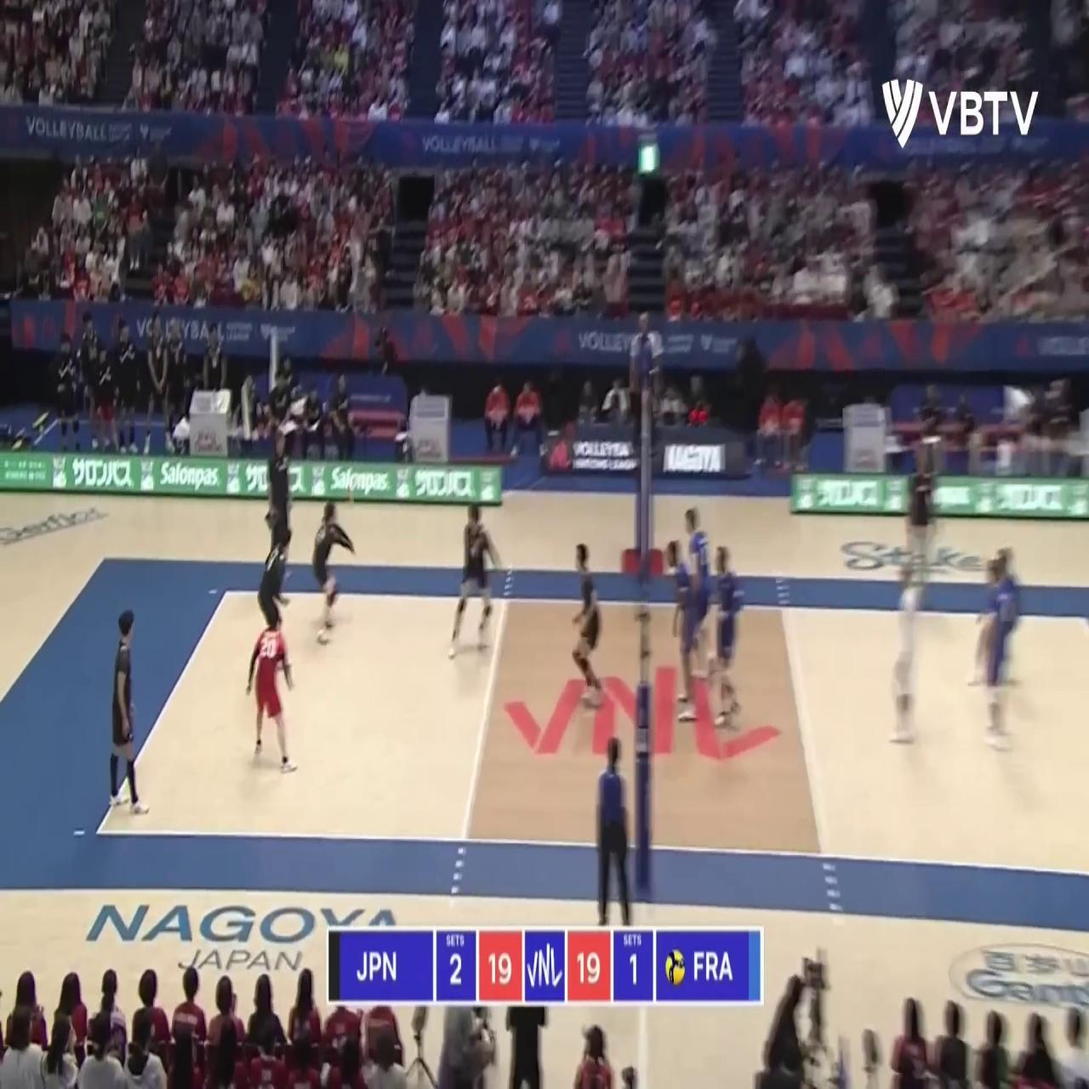ball: (345, 487, 355, 509)
